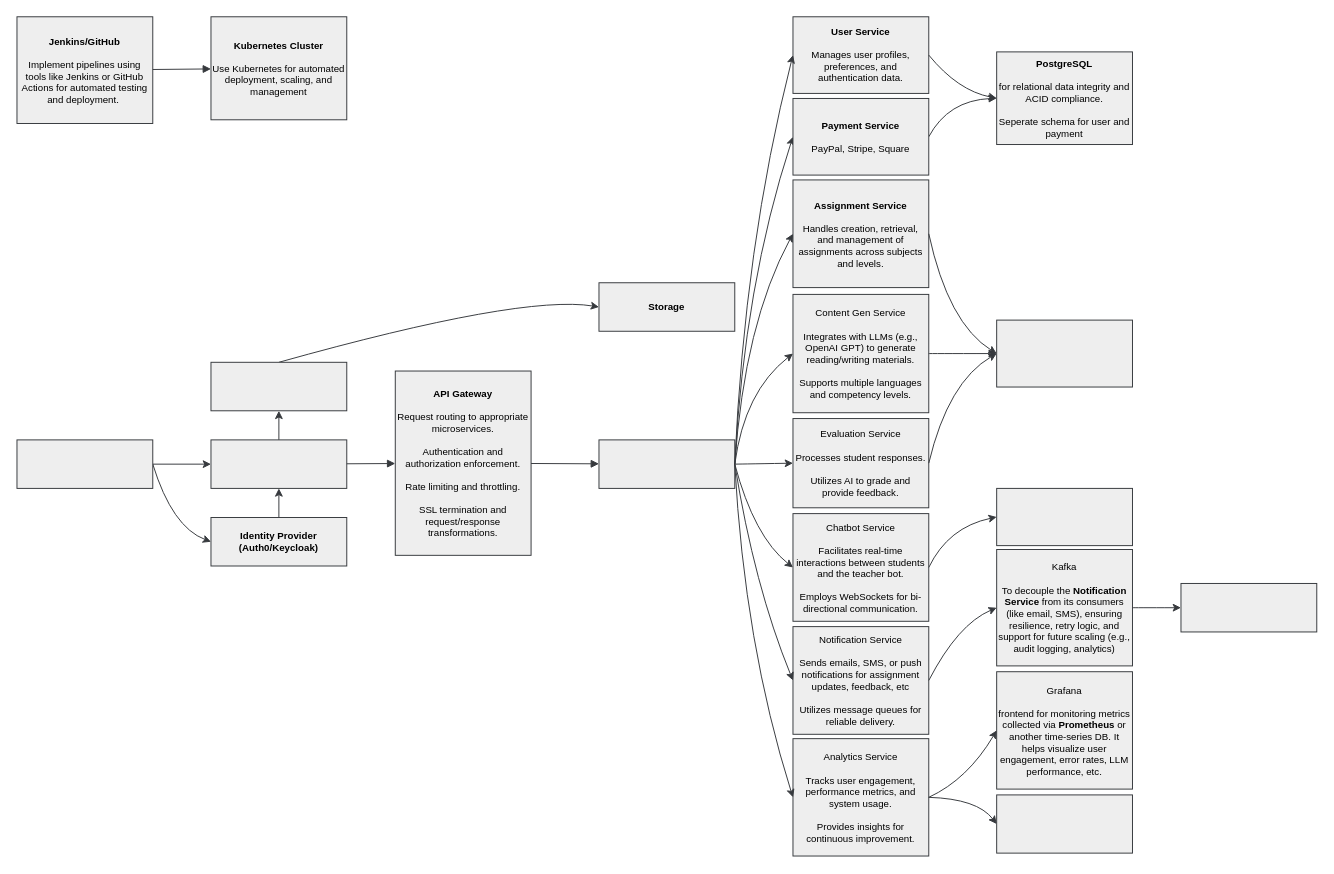
Some shapes in this 1334 by 874 pixel diagram are drawn without their labels. The shapes that lost their labels are listed below. From the top down, each one's box as (x1, y1, x2, y2) in pixels, then its label:
(996, 319, 1132, 387): MongoDB for flexible schema and scalability
(210, 361, 347, 411): CDN
(16, 439, 153, 488): Users
(210, 439, 347, 488): Frontend
(598, 439, 735, 488): Load Balancer
(996, 487, 1132, 546): Redis for in-memory storage and quick access
(1180, 582, 1317, 632): Email
(996, 794, 1132, 853): InfluxDB Time-series databases like
